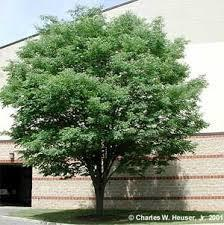tree: (1, 1, 210, 215)
